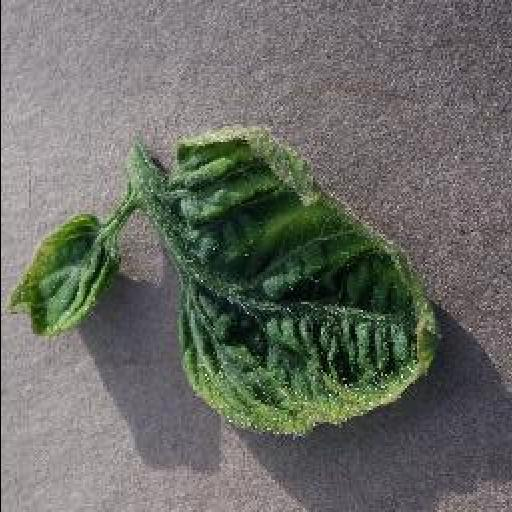disease_tomato: (170, 127, 440, 440), (8, 212, 118, 342)
